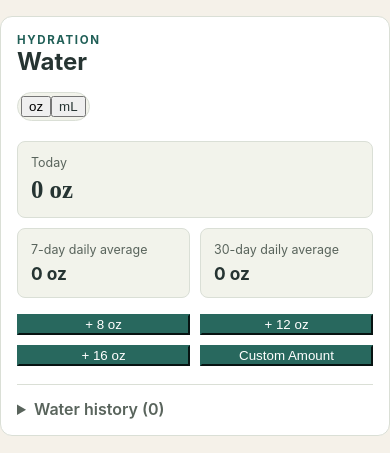
Test: quick-add logs water immediately and updates today's total
The image size is (390, 453).
expect the text "Today" shows "0 oz": met, box [31,176,73,203]
Step 1. Click the button with aria-label "Log 8 oz water" → (104, 325), box [17,314,190,335]
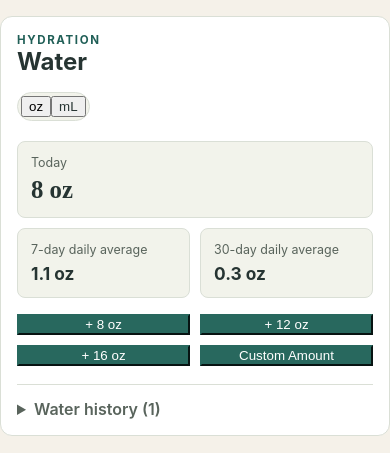
expect the text "Today" shows "8 oz": met, box [31,176,73,203]
